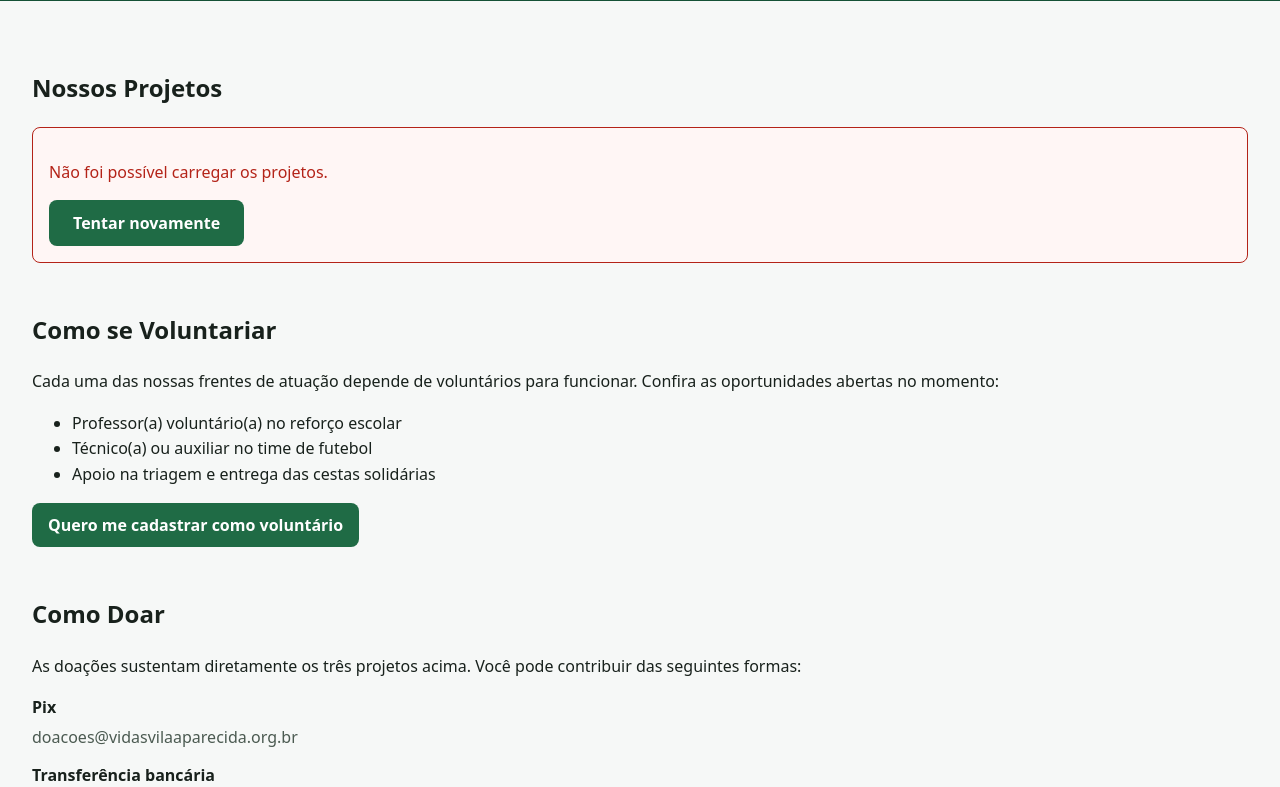
Scenario: allows a failed catalog request to be retried
The width and height of the screenshot is (1280, 787).
(page scrolled)
Expected: the message "Não foi possível carregar os projetos. Tentar novamente" is shown, [32,127,1248,263]
Click the button "Tentar novamente" at (147, 223), box [49,200,244,246]
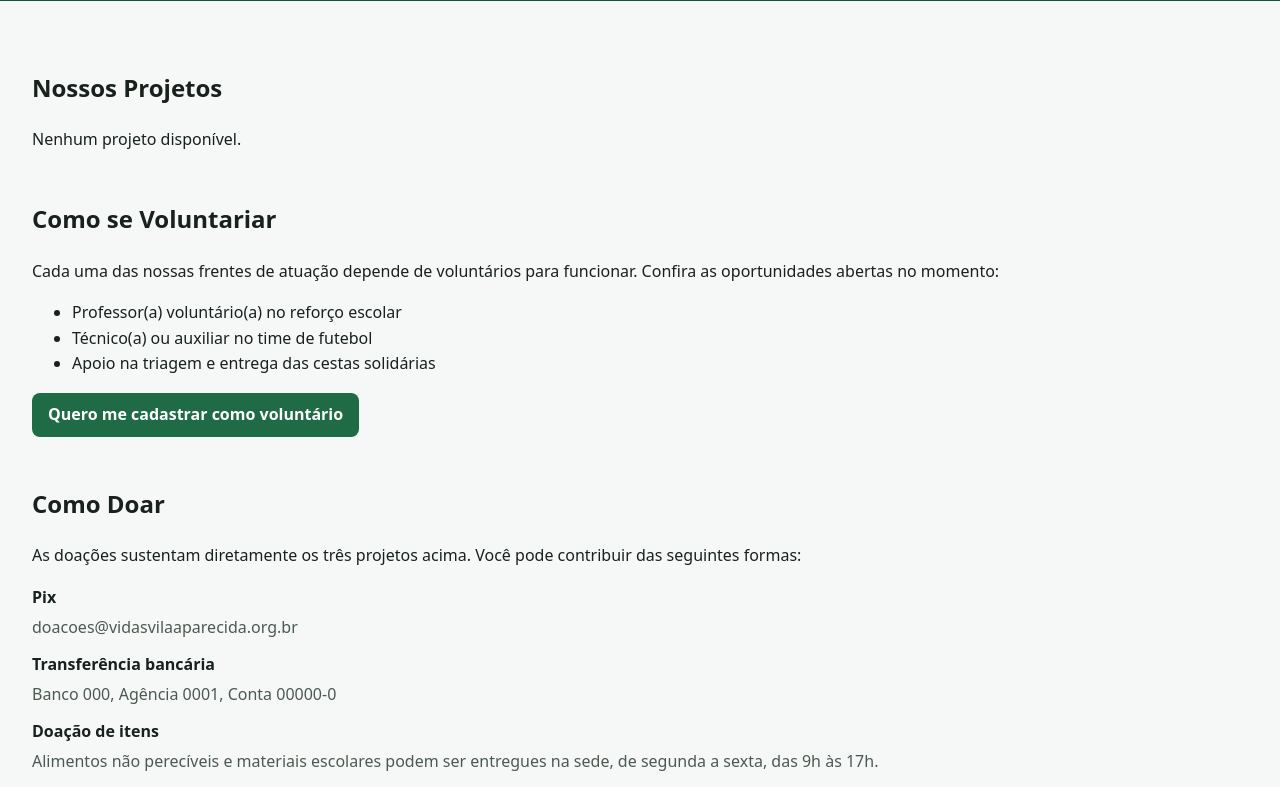
Expected: the text "Nenhum projeto disponível." is shown, [32,128,241,150]
